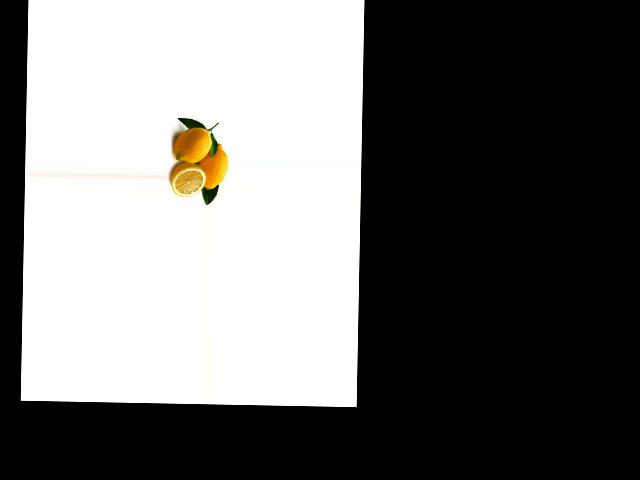lemon: (194, 141, 230, 188)
